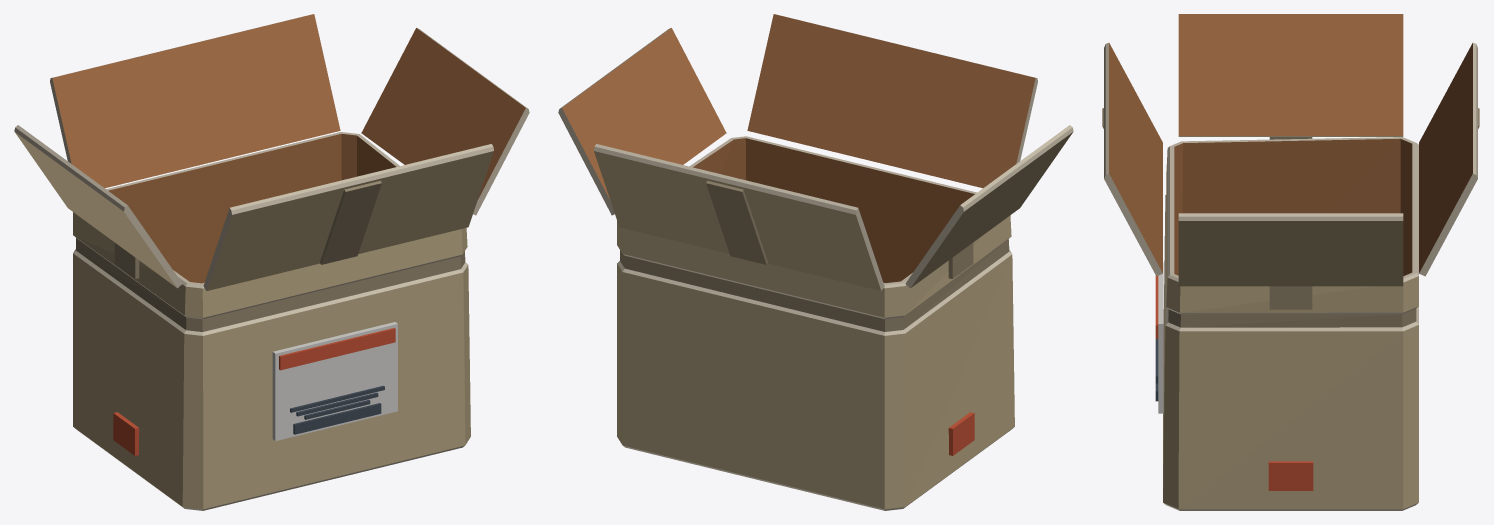
File: cardboard-delivery-box-59cc68.glb
3 views of the same model, side by side, from view 1: azimuth 30°, elevation 25°; view 2: azimuth 150°, elevation 25°; view 3: azimuth 270°, elevation 25° (orthographic). The views are drawn at different scales.
Visible parts, largest first — view 1: cardboard-delivery-box, flap-back, flap-front, flap-right, flap-left; view 2: cardboard-delivery-box, flap-front, flap-back, flap-right, flap-left; view 3: cardboard-delivery-box, flap-left, flap-right, flap-front, flap-back.
Part boxes in pixels (bbox=[...]): cardboard-delivery-box: bbox=[73, 132, 470, 510]; flap-back: bbox=[50, 14, 340, 188]; flap-front: bbox=[203, 144, 493, 290]; flap-right: bbox=[361, 28, 529, 215]; flap-left: bbox=[14, 125, 182, 288]; cardboard-delivery-box: bbox=[617, 136, 1014, 510]; flap-front: bbox=[747, 14, 1037, 188]; flap-back: bbox=[594, 144, 884, 290]; flap-right: bbox=[558, 28, 726, 215]; flap-left: bbox=[905, 125, 1073, 288]; cardboard-delivery-box: bbox=[1155, 136, 1418, 510]; flap-left: bbox=[1178, 14, 1403, 136]; flap-right: bbox=[1178, 213, 1403, 286]; flap-front: bbox=[1102, 42, 1162, 276]; flap-back: bbox=[1419, 42, 1479, 276].
Bounding box in the file's own units: 0.5629 × 0.4294 × 0.4418.
